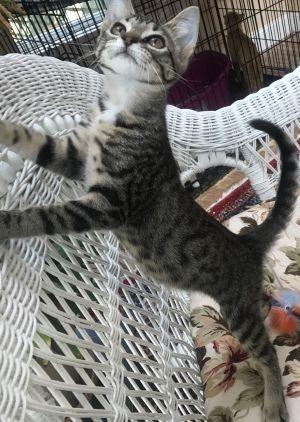bengal: (92, 1, 206, 96)
